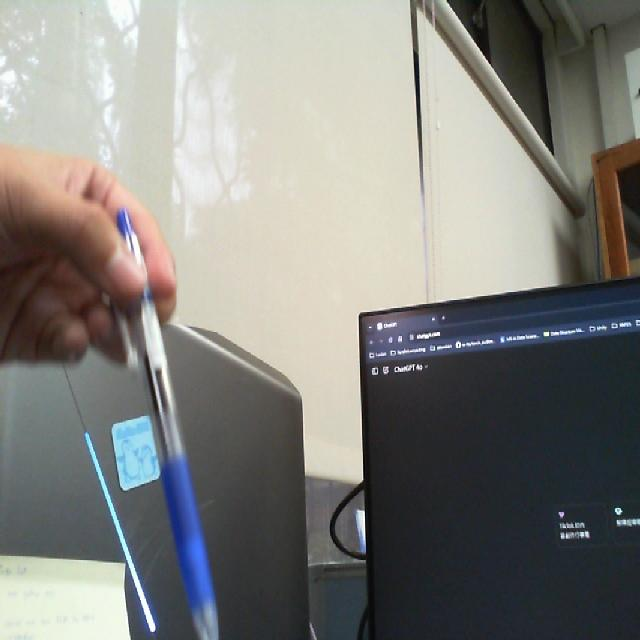Pen: (95, 204, 230, 640)
